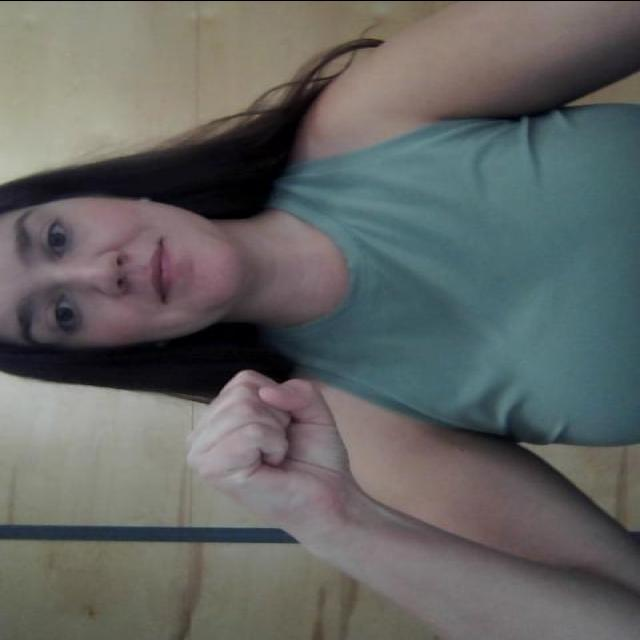Rock: (165, 336, 487, 571)
